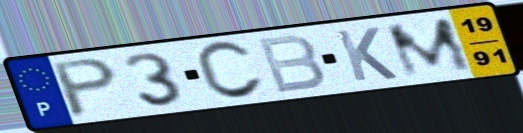3: (123, 51, 187, 107)
B: (254, 33, 329, 96)
C: (193, 39, 268, 103)
K: (332, 25, 401, 84)
M: (381, 14, 478, 80)
P: (49, 56, 120, 121)
